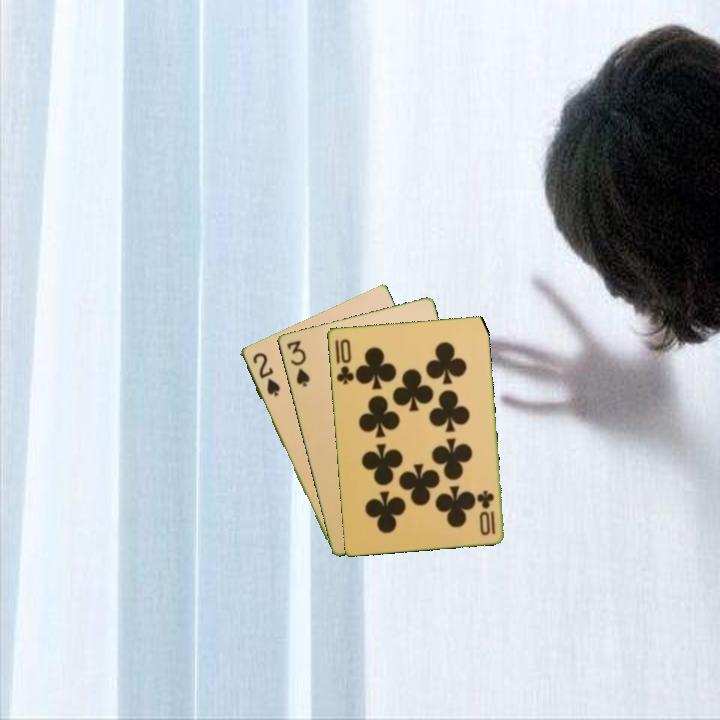10c: (331, 335, 356, 387), (475, 486, 498, 538)
2s: (249, 349, 283, 399)
3s: (283, 336, 312, 390)
